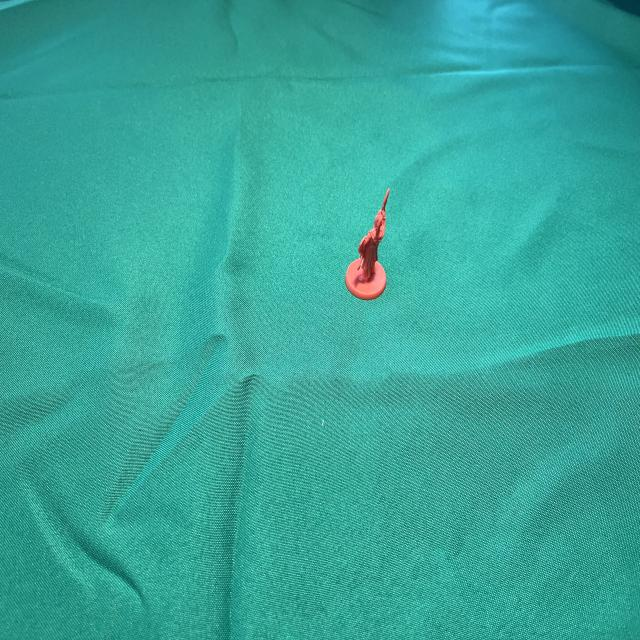amon_follower: (345, 188, 390, 300)
